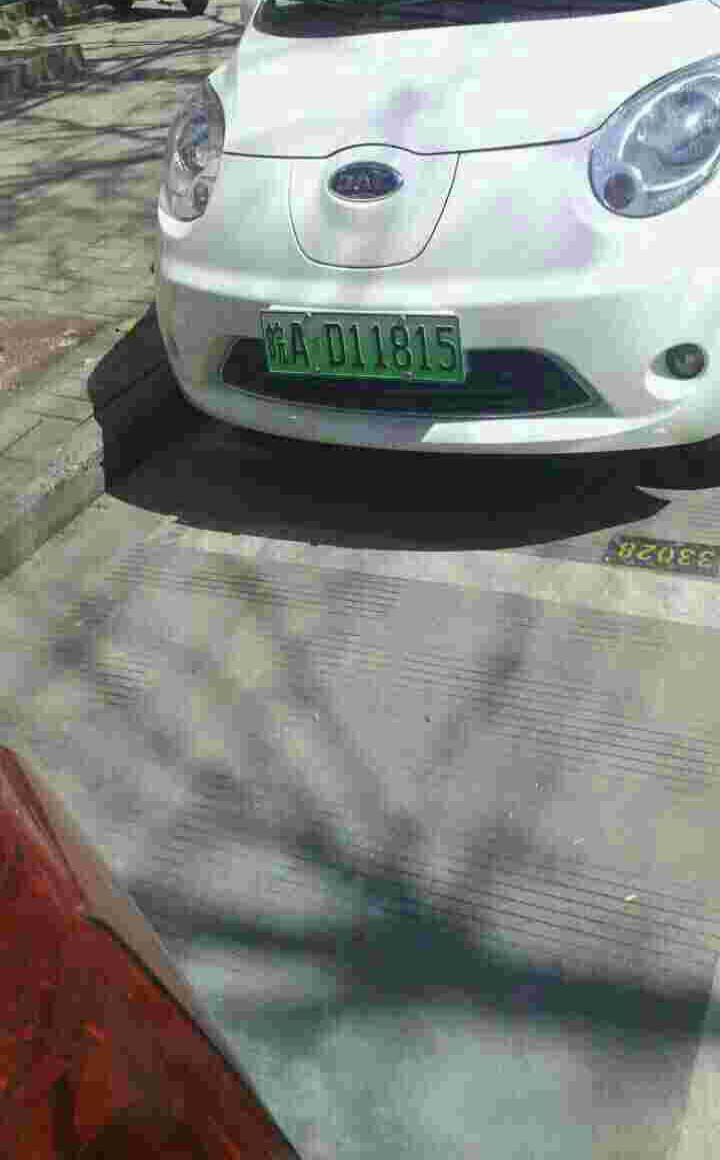car: (251, 304, 475, 394)
